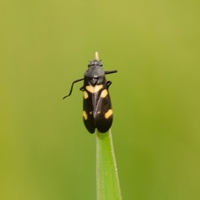insect: (63, 52, 116, 132)
